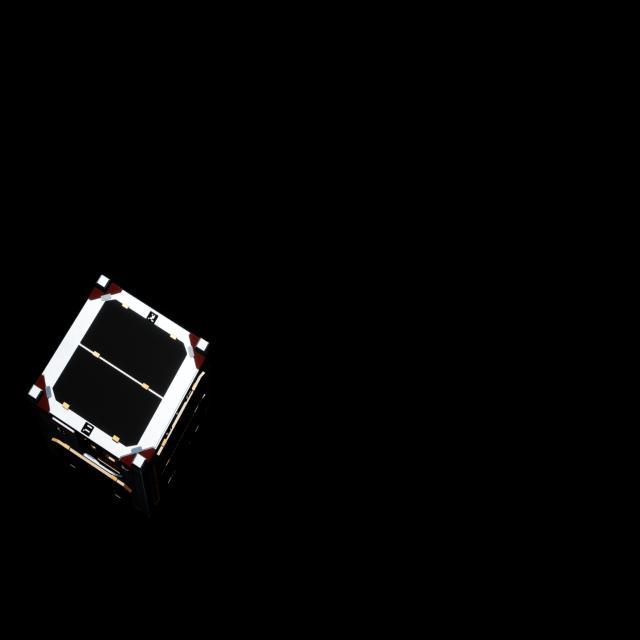medium_debris: (23, 266, 224, 518)
